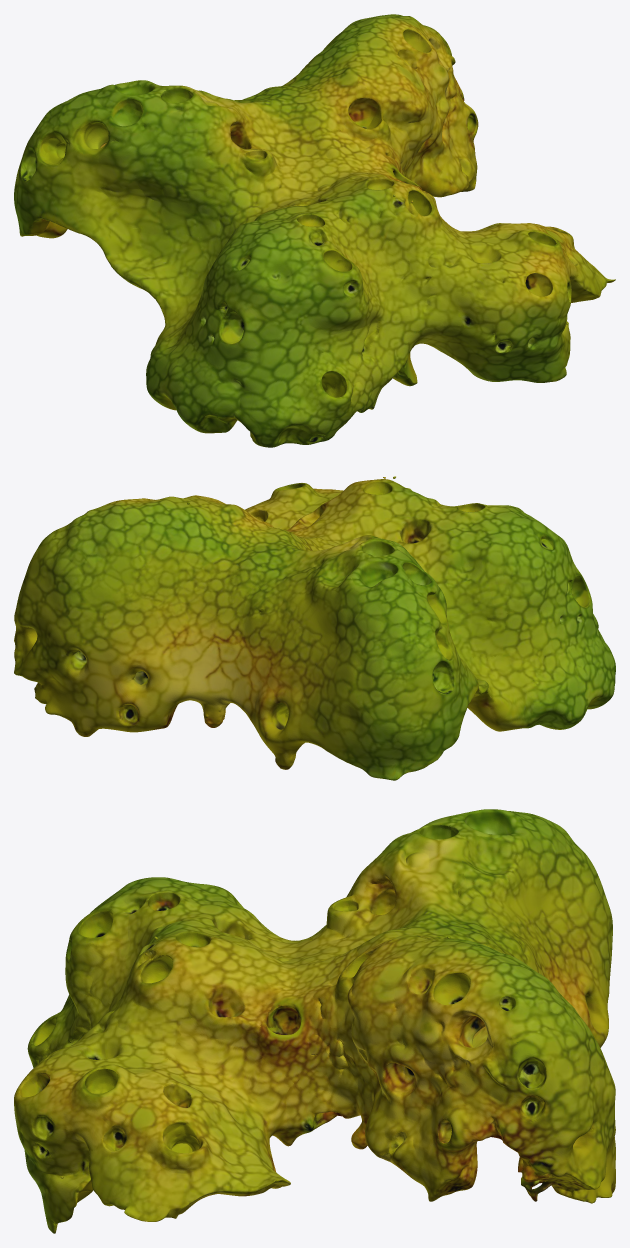
Rendered from Cliona Celata.glb.
The picture shows the model from 3 angles, top to bottom: view 1: azimuth 30°, elevation 25°; view 2: azimuth 150°, elevation 25°; view 3: azimuth 270°, elevation 25°; orthographic projection. The views are drawn at different scales.
Visible parts, largest first — view 1: tripo_node_61d6b62c-b7d8-42d9-b315-13b4face85f1; view 2: tripo_node_61d6b62c-b7d8-42d9-b315-13b4face85f1; view 3: tripo_node_61d6b62c-b7d8-42d9-b315-13b4face85f1.
Part boxes in pixels (left/top/right/bottom): tripo_node_61d6b62c-b7d8-42d9-b315-13b4face85f1: left=14, top=14, right=615, bottom=447; tripo_node_61d6b62c-b7d8-42d9-b315-13b4face85f1: left=14, top=476, right=615, bottom=780; tripo_node_61d6b62c-b7d8-42d9-b315-13b4face85f1: left=14, top=809, right=615, bottom=1233.
Bounding box in the file's own units: 0.9998 × 0.5074 × 1.
Materials: 1 (1 with a texture image).
